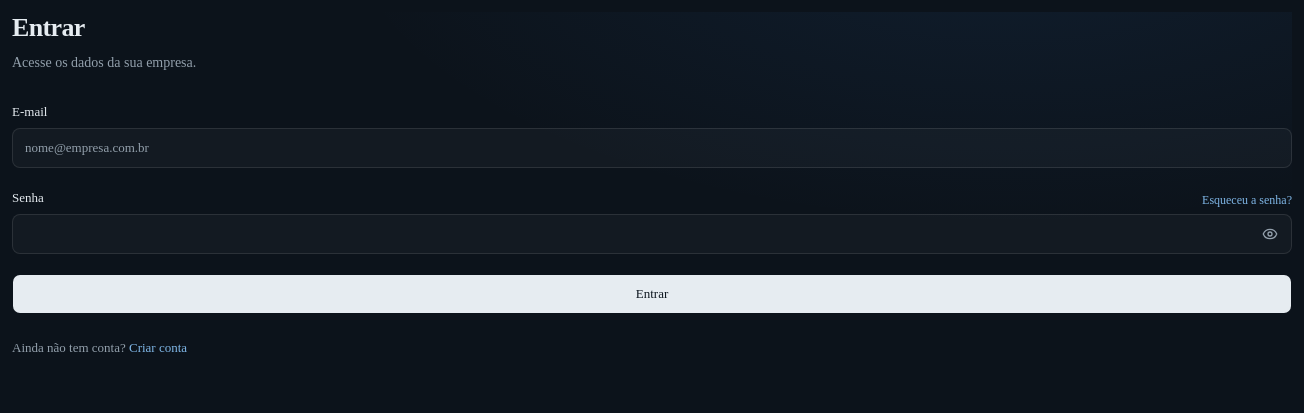
formulário de entrar › corrigir um campo limpa só o erro dele
Click the button "Entrar": (652, 294) [12, 274, 1292, 314]
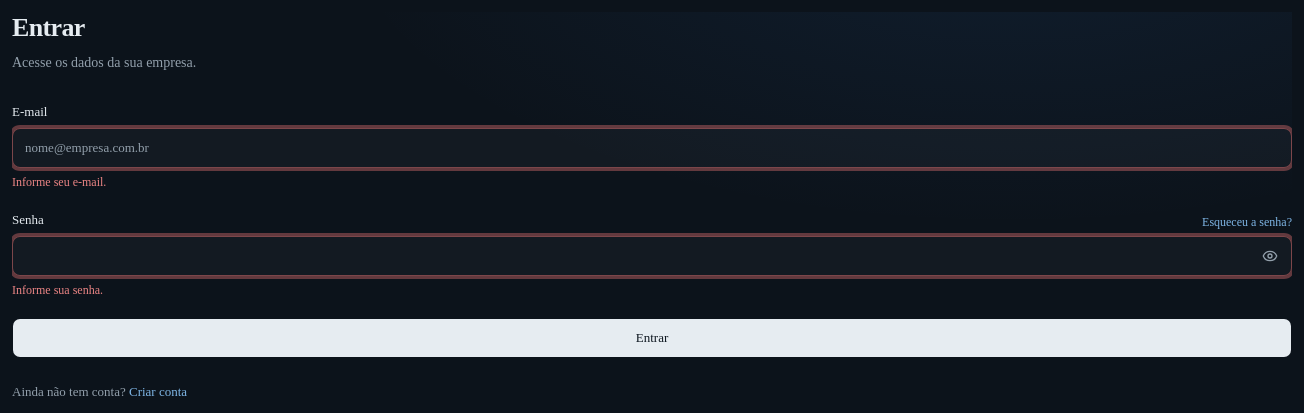
In the field labelled "E-mail": (652, 148) [12, 128, 1292, 168], type "a"
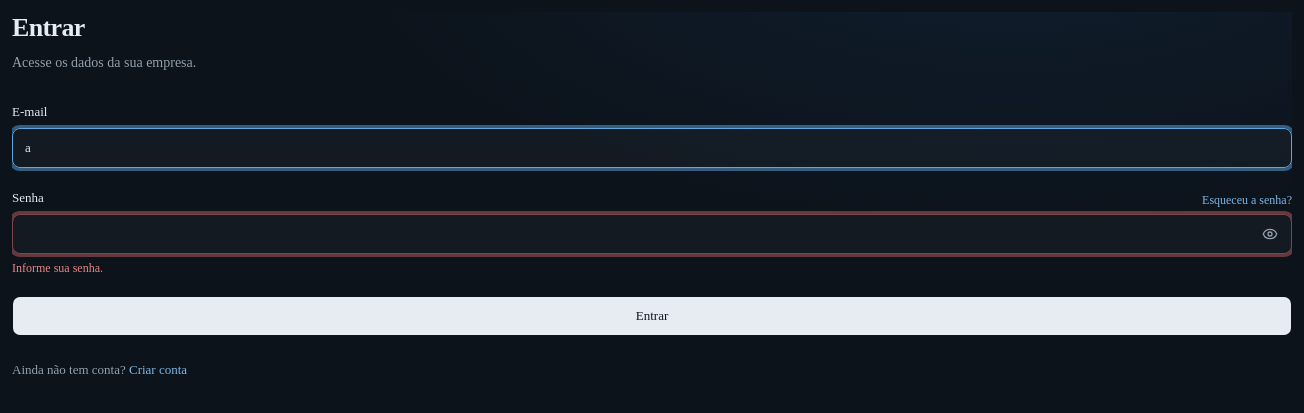
expect the text "Informe sua senha." is shown: met, box [12, 261, 103, 275]
expect the text "Informe seu e-mail." is gone: met
